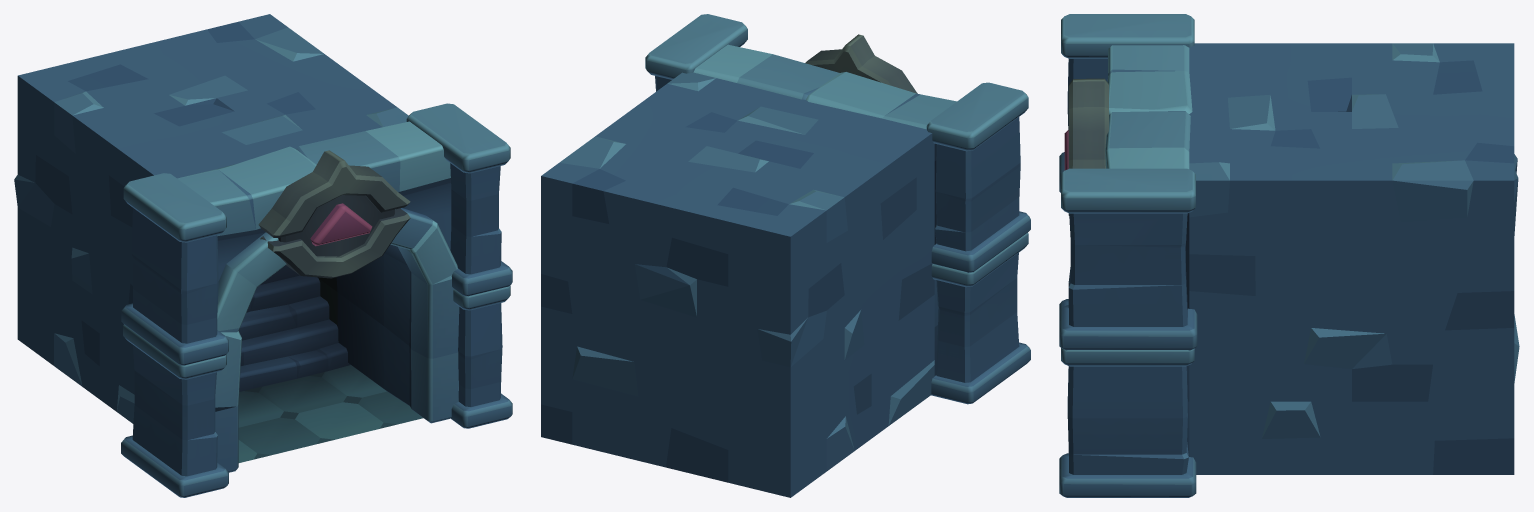
Rendered from doorway_level_to_level_up.fbx.
The picture shows the model from 3 angles, left to right: view 1: azimuth 30°, elevation 25°; view 2: azimuth 150°, elevation 25°; view 3: azimuth 270°, elevation 25°; orthographic projection. The views are drawn at different scales.
Visible parts, largest first — view 1: doorway_level_to_level_up; view 2: doorway_level_to_level_up; view 3: doorway_level_to_level_up.
Part boxes in pixels (x1,y1,x2,y2): doorway_level_to_level_up: [14, 14, 512, 497]; doorway_level_to_level_up: [541, 14, 1030, 497]; doorway_level_to_level_up: [1059, 14, 1519, 497].
Size of the model in its own units: 530 by 446 by 566.
